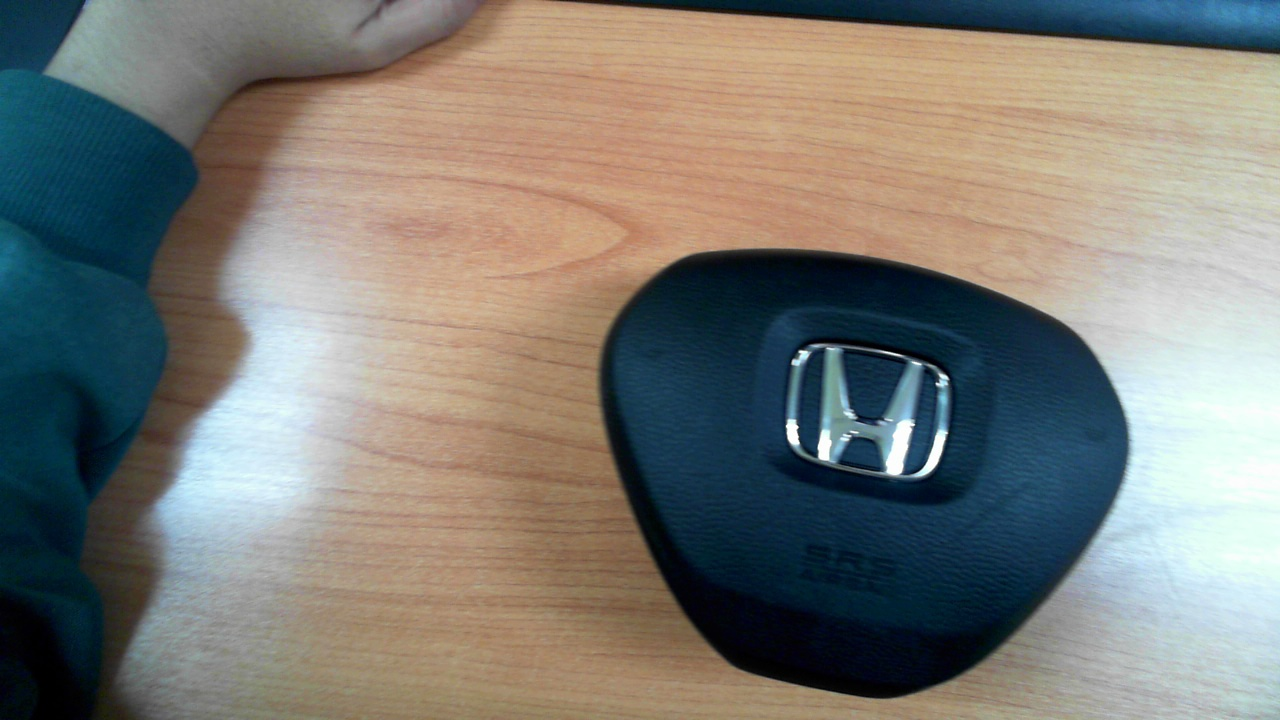Airbag: (598, 249, 1131, 701)
Honda: (786, 343, 950, 479)
